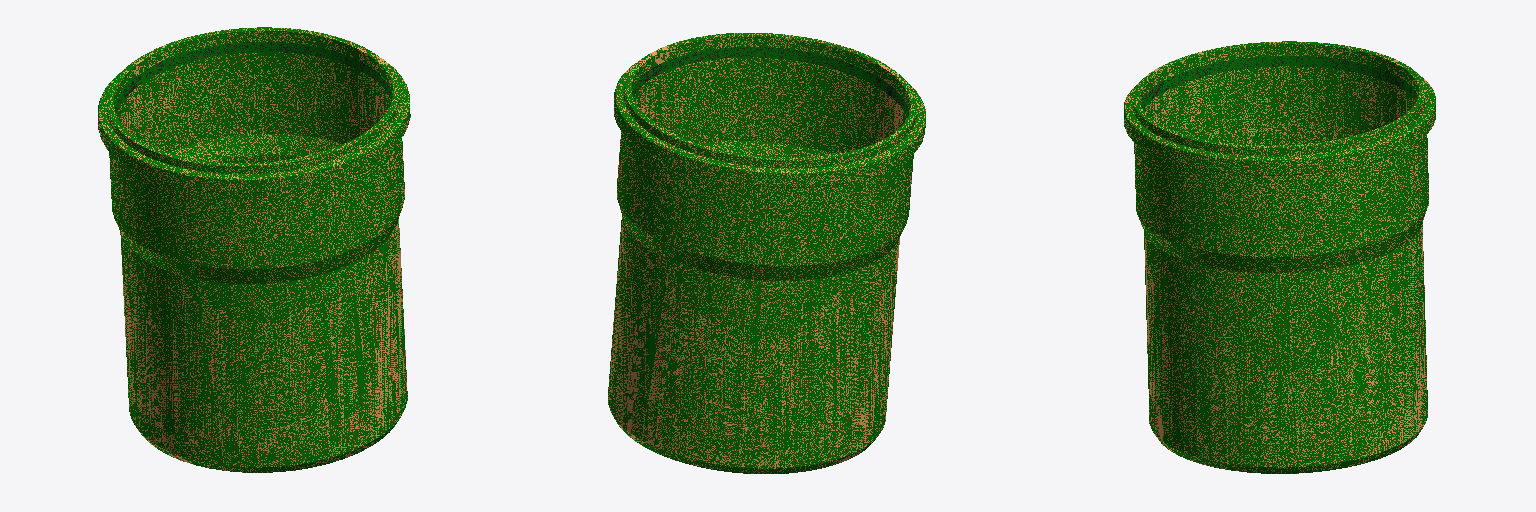
File: pipe.obj
3 views of the same model, side by side, from view 1: azimuth 30°, elevation 25°; view 2: azimuth 150°, elevation 25°; view 3: azimuth 270°, elevation 25° (orthographic).
Parts seen in each view (by area): view 1: Mesh1 Model; view 2: Mesh1 Model; view 3: Mesh1 Model.
Part boxes in pixels (left/top/right/bottom): Mesh1 Model: left=98, top=27, right=410, bottom=472; Mesh1 Model: left=608, top=33, right=925, bottom=473; Mesh1 Model: left=1124, top=41, right=1435, bottom=473.
Size of the model in its own units: 357 by 421 by 353.